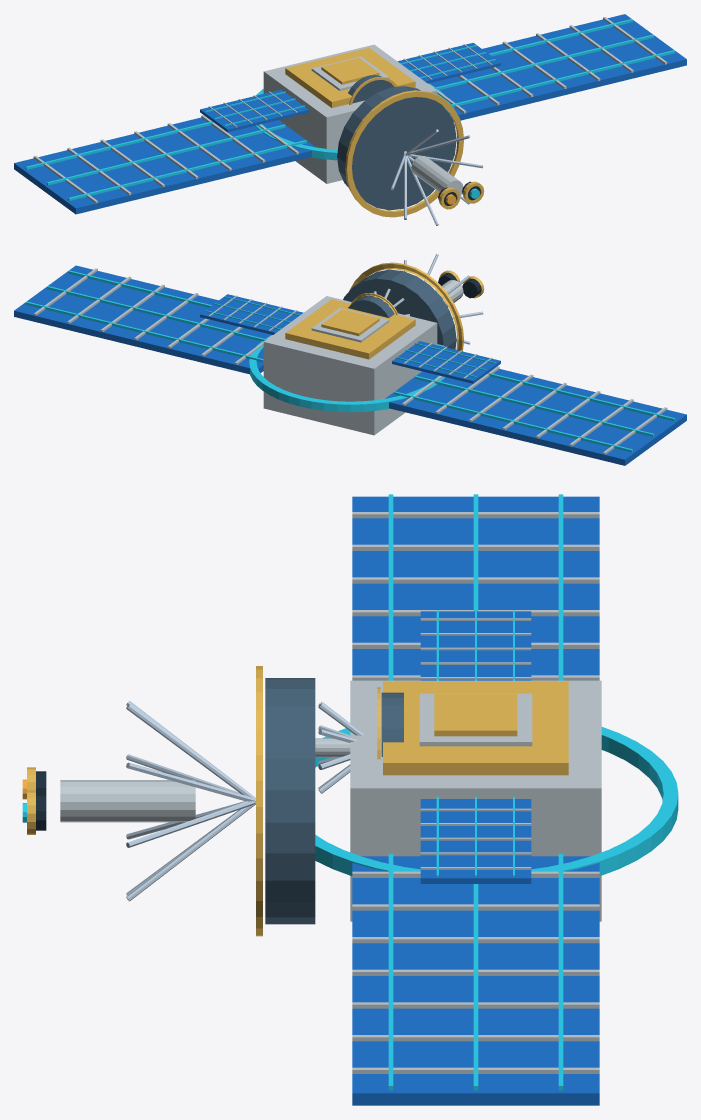
The model's file is 51_L81_SpacecraftAttitudeActuatorSimulator.fbx.
The picture shows the model from 3 angles, top to bottom: view 1: azimuth 30°, elevation 25°; view 2: azimuth 150°, elevation 25°; view 3: azimuth 270°, elevation 25°; orthographic projection. The views are drawn at different scales.
Visible parts, largest first — view 1: SpacecraftAttitudeActuatorSimulator, SpacecraftAttitudeActuatorSimulator_Part_0038, SpacecraftAttitudeActuatorSimulator_Part_0049, SpacecraftAttitudeActuatorSimulator_Part_0037, SpacecraftAttitudeActuatorSimulator_Part_0060, SpacecraftAttitudeActuatorSimulator_Part_0035, SpacecraftAttitudeActuatorSimulator_Part_0036; view 2: SpacecraftAttitudeActuatorSimulator, SpacecraftAttitudeActuatorSimulator_Part_0038, SpacecraftAttitudeActuatorSimulator_Part_0035, SpacecraftAttitudeActuatorSimulator_Part_0049, SpacecraftAttitudeActuatorSimulator_Part_0037, SpacecraftAttitudeActuatorSimulator_Part_0036, SpacecraftAttitudeActuatorSimulator_Part_0060; view 3: SpacecraftAttitudeActuatorSimulator, SpacecraftAttitudeActuatorSimulator_Part_0049, SpacecraftAttitudeActuatorSimulator_Part_0035, SpacecraftAttitudeActuatorSimulator_Part_0038, SpacecraftAttitudeActuatorSimulator_Part_0037, SpacecraftAttitudeActuatorSimulator_Part_0036, SpacecraftAttitudeActuatorSimulator_Part_0060.
Boxes of the visible parts, x1,y1,x2,y2 form: SpacecraftAttitudeActuatorSimulator: (14, 14, 686, 225); SpacecraftAttitudeActuatorSimulator_Part_0038: (200, 89, 308, 132); SpacecraftAttitudeActuatorSimulator_Part_0049: (397, 42, 500, 83); SpacecraftAttitudeActuatorSimulator_Part_0037: (321, 58, 379, 84); SpacecraftAttitudeActuatorSimulator_Part_0060: (348, 75, 394, 103); SpacecraftAttitudeActuatorSimulator_Part_0035: (256, 83, 450, 160); SpacecraftAttitudeActuatorSimulator_Part_0036: (311, 56, 389, 90); SpacecraftAttitudeActuatorSimulator: (14, 254, 686, 465); SpacecraftAttitudeActuatorSimulator_Part_0038: (392, 341, 500, 383); SpacecraftAttitudeActuatorSimulator_Part_0035: (249, 335, 445, 412); SpacecraftAttitudeActuatorSimulator_Part_0049: (200, 294, 303, 334); SpacecraftAttitudeActuatorSimulator_Part_0037: (321, 309, 379, 336); SpacecraftAttitudeActuatorSimulator_Part_0036: (311, 308, 389, 342); SpacecraftAttitudeActuatorSimulator_Part_0060: (348, 296, 394, 317); SpacecraftAttitudeActuatorSimulator: (22, 494, 601, 1105); SpacecraftAttitudeActuatorSimulator_Part_0049: (420, 799, 531, 883); SpacecraftAttitudeActuatorSimulator_Part_0035: (315, 727, 678, 875); SpacecraftAttitudeActuatorSimulator_Part_0038: (420, 611, 531, 680); SpacecraftAttitudeActuatorSimulator_Part_0037: (434, 694, 517, 736); SpacecraftAttitudeActuatorSimulator_Part_0036: (419, 693, 532, 746); SpacecraftAttitudeActuatorSimulator_Part_0060: (381, 692, 403, 756).
Bounding box in the file's own units: 383 × 73.5 × 178.
